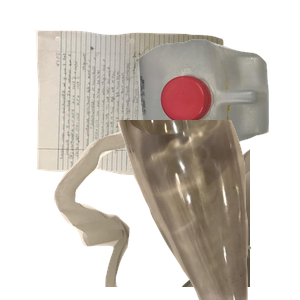glass: (115, 120, 300, 300)
paper: (32, 28, 249, 196)
plastic: (136, 37, 300, 188)
trash: (51, 120, 291, 300)
